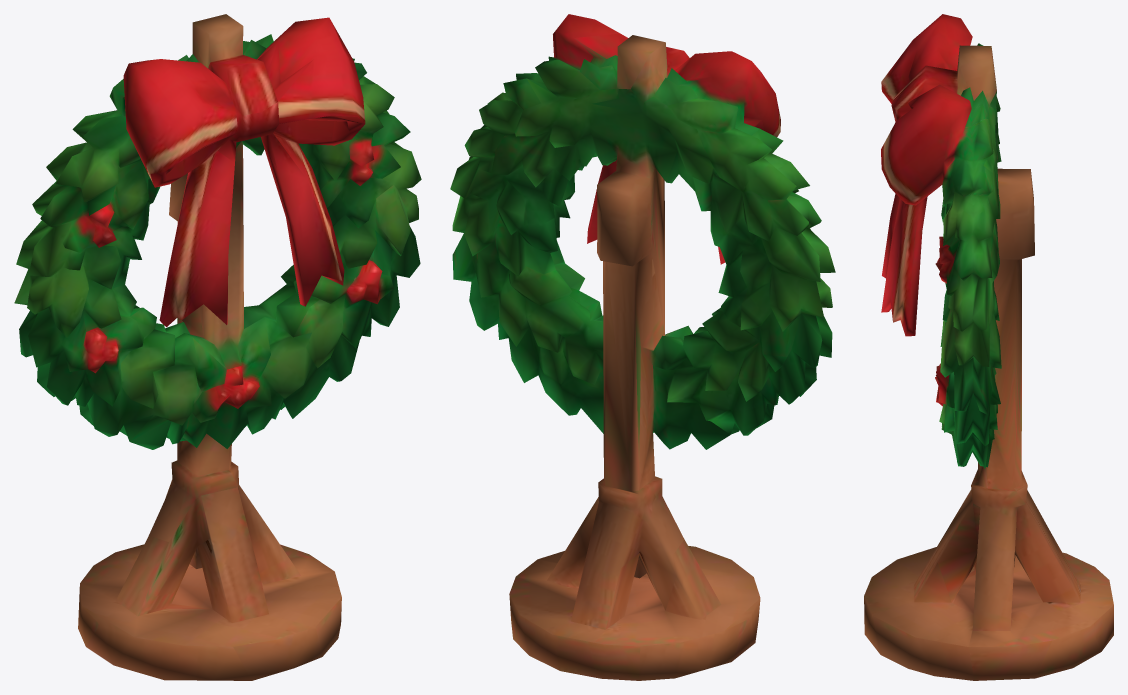
File: garland.glb
The picture shows the model from 3 angles, left to right: view 1: azimuth 30°, elevation 25°; view 2: azimuth 150°, elevation 25°; view 3: azimuth 270°, elevation 25°; orthographic projection. The views are drawn at different scales.
Visible parts, largest first — view 1: model; view 2: model; view 3: model.
Part boxes in pixels (box(x1,y1,x2,y2)): model: box(14, 14, 421, 680); model: box(450, 14, 835, 680); model: box(864, 14, 1113, 680).
Size of the model in its own units: 1.28 by 1.89 by 0.7414.
1 material, 1 textured.
